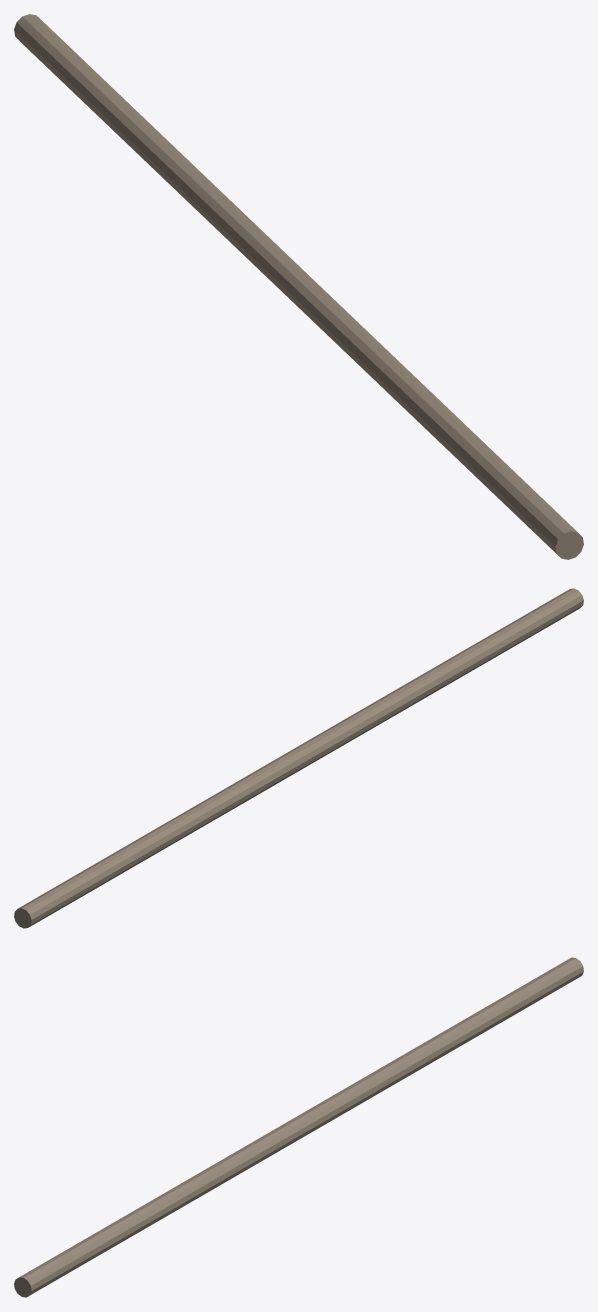
The model's file is mast_visual.glb.
3 renders of one model, top to bottom at view 1: azimuth 30°, elevation 25°; view 2: azimuth 150°, elevation 25°; view 3: azimuth 330°, elevation 25°, orthographic. The views are drawn at different scales.
Visible parts, largest first — view 1: mast; view 2: mast; view 3: mast.
Part boxes in pixels (x1,y1,x2,y2): mast: [14, 14, 583, 559]; mast: [14, 588, 583, 928]; mast: [14, 957, 583, 1297].
Bounding box in the file's own units: 1.95 × 0.348 × 14.94.
